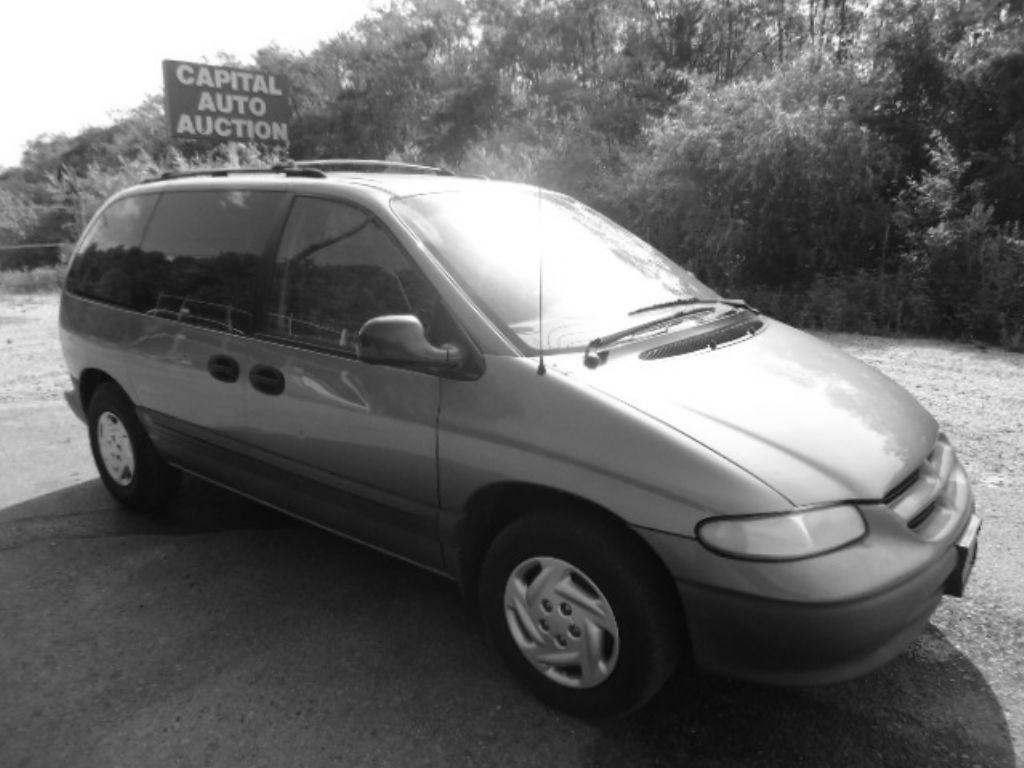car: (57, 155, 986, 725)
